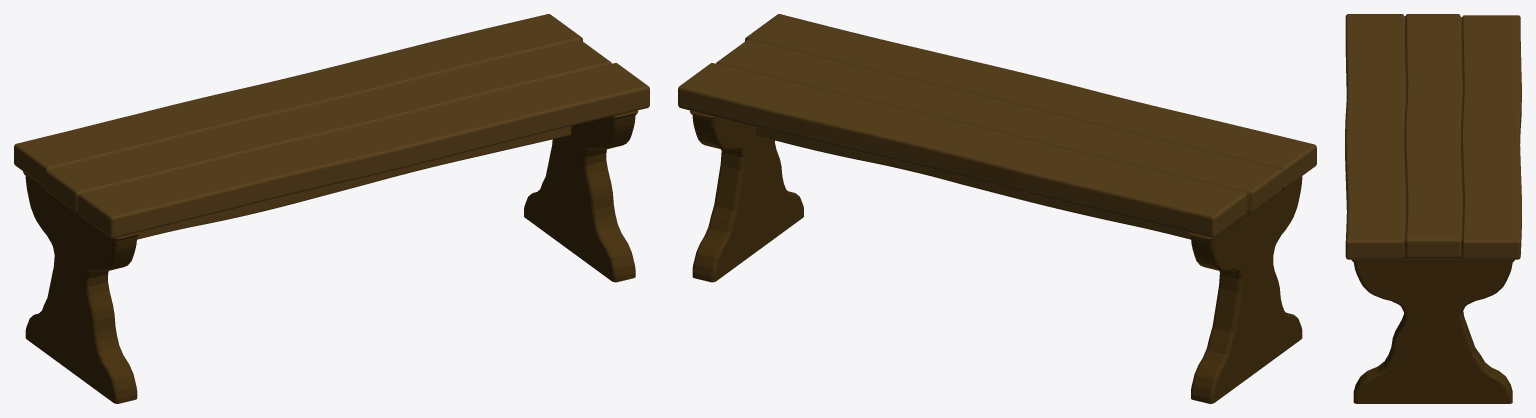
Rendered from TI_Bench.obj.
3 renders of one model, left to right at view 1: azimuth 30°, elevation 25°; view 2: azimuth 150°, elevation 25°; view 3: azimuth 270°, elevation 25°, orthographic. The views are drawn at different scales.
Parts seen in each view (by area): view 1: Куб.005; view 2: Куб.005; view 3: Куб.005.
Boxes of the visible parts, box(x1,y1,x2,y2) form: Куб.005: box(14, 14, 649, 403); Куб.005: box(678, 14, 1316, 403); Куб.005: box(1345, 14, 1521, 403).
Bounding box in the file's own units: 6.8 × 2.31 × 2.23.
1 material, 1 textured.
